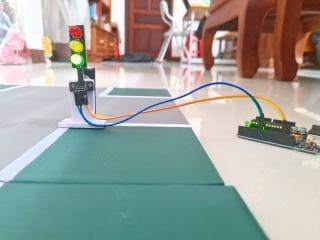green: (59, 19, 92, 78)
